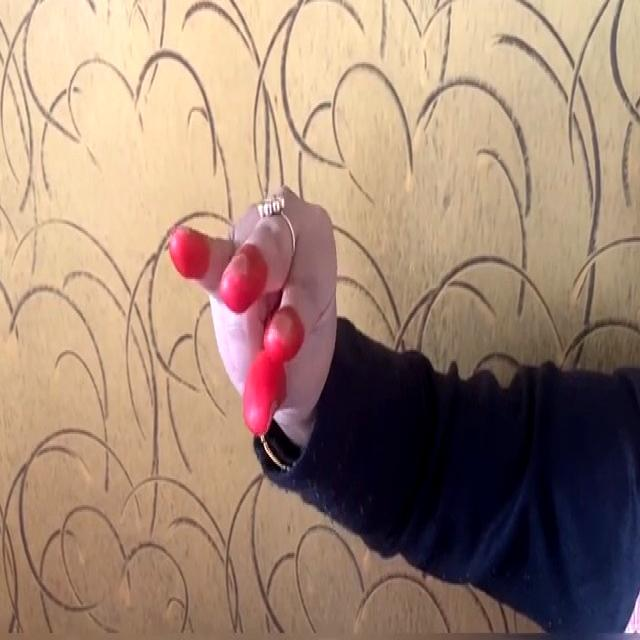Kangula: (152, 121, 362, 508)
